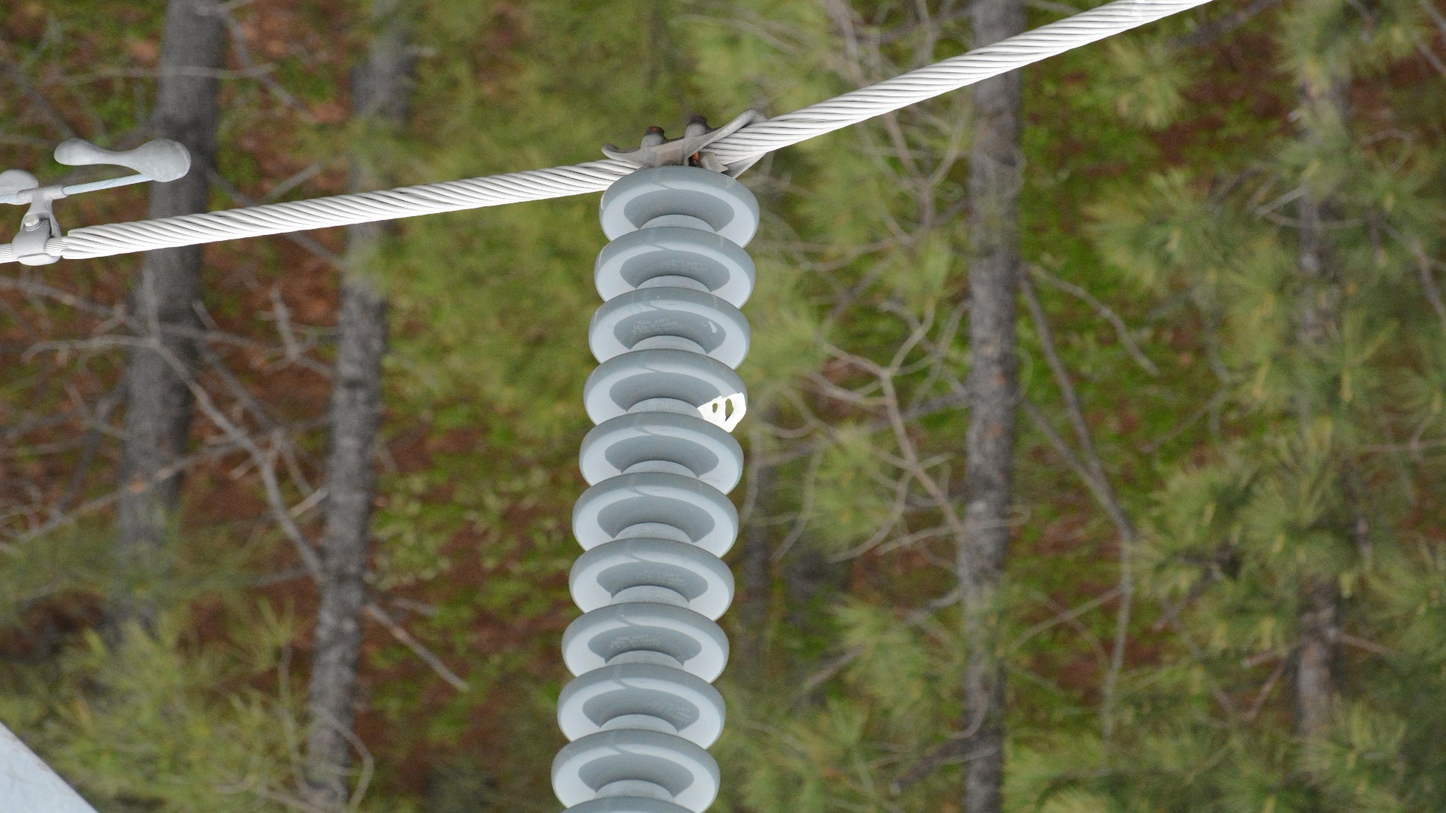insulator: (548, 160, 766, 811)
insulator_breakage: (693, 385, 750, 436)
